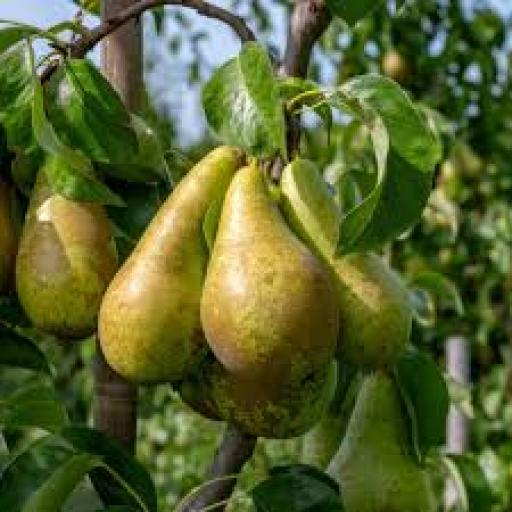Pear: (201, 164, 339, 436), (98, 146, 243, 384), (280, 160, 411, 368), (16, 169, 118, 339), (328, 371, 434, 511), (178, 358, 336, 439), (0, 180, 18, 293)
